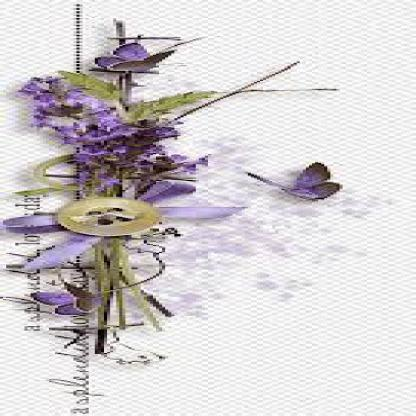Kupu-Kupu: (249, 167, 353, 200)
